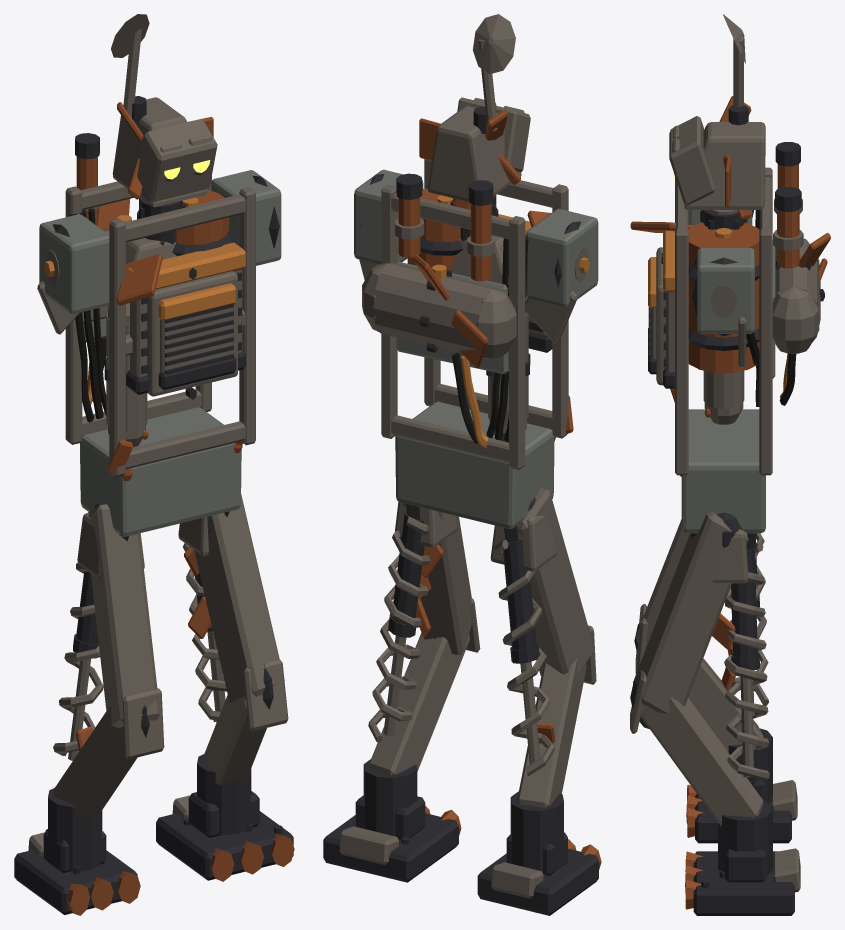
The model's file is ch_strider.glb.
3 views of the same model, side by side, from view 1: azimuth 30°, elevation 25°; view 2: azimuth 150°, elevation 25°; view 3: azimuth 270°, elevation 25° (orthographic). The views are drawn at different scales.
Parts seen in each view (by area): view 1: ch_strider, limb_leg_l, limb_leg_r; view 2: ch_strider, limb_leg_r, limb_leg_l; view 3: ch_strider, limb_leg_r, limb_leg_l.
Part boxes in pixels (<box>): ch_strider: <box>37,14,281,536</box>; limb_leg_l: <box>14,504,164,915</box>; limb_leg_r: <box>156,494,294,881</box>; ch_strider: <box>354,14,598,529</box>; limb_leg_r: <box>323,501,480,882</box>; limb_leg_l: <box>477,488,601,915</box>; ch_strider: <box>630,14,830,533</box>; limb_leg_r: <box>630,511,800,915</box>; limb_leg_l: <box>634,519,797,843</box>.
Bounding box in the file's own units: 0.2617 × 0.9359 × 0.2038.
